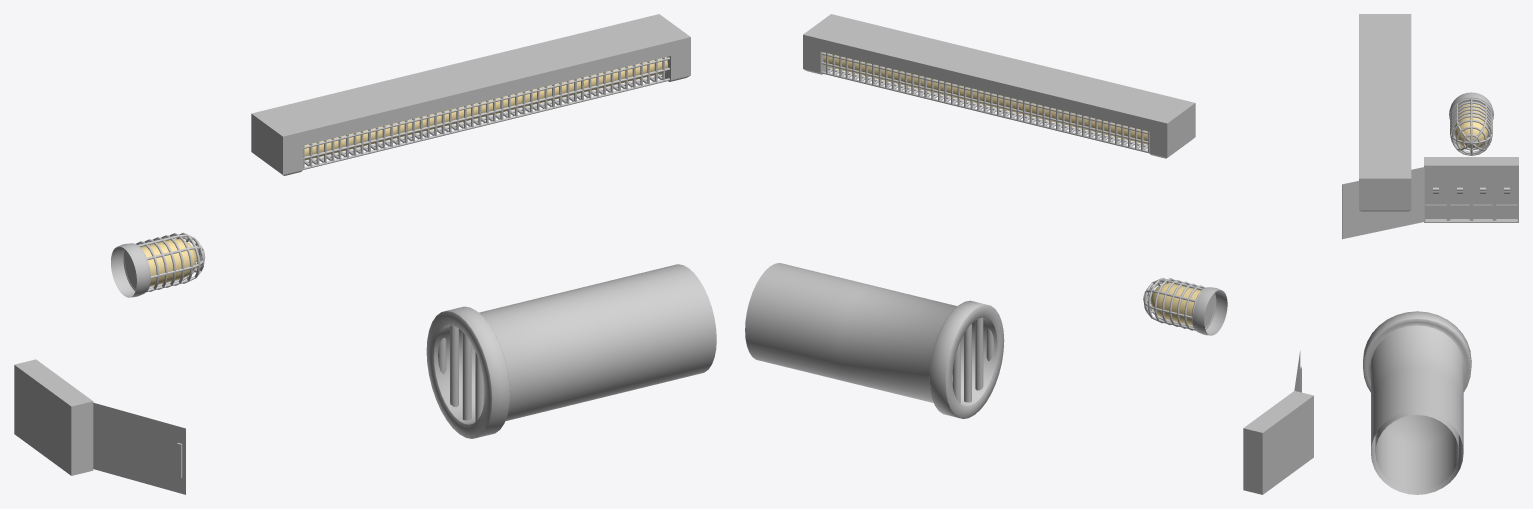
Rendered from Light.fbx.
3 views of the same model, side by side, from view 1: azimuth 30°, elevation 25°; view 2: azimuth 150°, elevation 25°; view 3: azimuth 270°, elevation 25° (orthographic). The views are drawn at different scales.
Visible parts, largest first — view 1: Cylinder.003, Cube.082, Cube, Sphere; view 2: Cylinder.003, Cube.082, Cube, Sphere; view 3: Cylinder.003, Cube.082, Cube, Sphere.
Boxes of the visible parts, x1,y1,x2,y2 form: Cylinder.003: (426,264,716,438); Cube.082: (251,14,690,175); Cube: (14,359,185,494); Sphere: (111,232,205,297); Cylinder.003: (745,263,1004,418); Cube.082: (803,14,1195,158); Cube: (1243,350,1313,494); Sphere: (1143,278,1227,335); Cylinder.003: (1363,311,1471,494); Cube.082: (1359,14,1411,211); Cube: (1342,157,1518,239); Sphere: (1449,92,1493,155).
Bounding box in the file's own units: 534 × 312 × 161.
